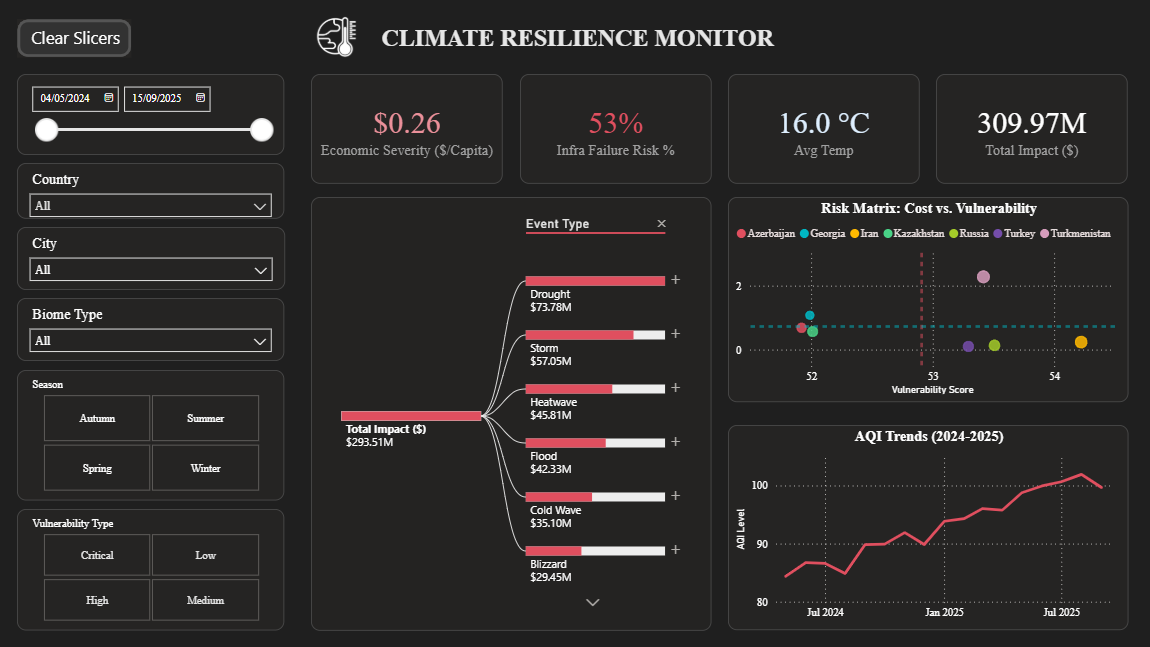

Layout of this report page (visuals, bound fields, positions):
{"tool":"powerbi","page":{"name":"Page 1","canvas":[1280,720],"ordinal":0},"visuals":[{"type":"shape","box":[20,21.3,127.3,42.7],"z":1000},{"type":"slicer","fields":{"Values":["DateTable.Date"]},"box":[20,81.7,296.7,90],"z":2000},{"type":"slicer","fields":{"Values":["AllCountriesClimate.Biome_Type"]},"box":[20,331.3,296.7,70],"z":3000},{"type":"slicer","fields":{"Values":["AllCountriesClimate.Season"]},"box":[20,410.7,296.7,145],"z":4000},{"type":"card","fields":{"Values":["_measures.Economic Severity ($/Capita)"]},"box":[346.7,81.7,213.3,121.7],"z":5000},{"type":"slicer","fields":{"Values":["AllCountriesClimate.Country"]},"box":[20,181,296.7,61.7],"z":6000},{"type":"card","fields":{"Values":["_measures.Infra Failure Risk %"]},"box":[578.6,81.7,213,121.7],"z":7000},{"type":"card","fields":{"Values":["_measures.Avg Temp"]},"box":[810.1,81.7,213,121.7],"z":8000},{"type":"card","fields":{"Values":["_measures.Total Impact ($)"]},"box":[1041.7,81.7,213,121.7],"z":9000},{"type":"textbox","box":[420,21.7,595,51.7],"z":10000},{"type":"slicer","fields":{"Values":["AllCountriesClimate.Vuln Group"]},"box":[20,565,296.7,135],"z":11000},{"type":"decompositionTreeVisual","fields":{"Analyze":["_measures.Total Impact ($)"],"ExplainBy":["AllCountriesClimate.Extreme_Weather_Events","AllCountriesClimate.Vuln Group","AllCountriesClimate.City"]},"box":[346.7,218.3,445,481.7],"z":12000},{"type":"scatterChart","title":"Risk Matrix: Cost vs. Vulnerability","fields":{"X":["Avg(AllCountriesClimate.Infrastructure_Vulnerability_Score)"],"Y":["_measures.Economic Severity ($/Capita)"],"Size":["_measures.Total Impact ($)"],"Category":["AllCountriesClimate.Country"],"Series":["AllCountriesClimate.Country"]},"box":[810,218.3,445,228.3],"z":13000},{"type":"lineChart","title":"AQI Trends (2024-2025)","fields":{"Category":["DateTable.Date.Variation.Date Hierarchy.Year","DateTable.Date.Variation.Date Hierarchy.Quarter","DateTable.Date.Variation.Date Hierarchy.Month","DateTable.Date.Variation.Date Hierarchy.Day"],"Y":["_measures.Avg AQI"]},"box":[810,471.7,445,228.3],"z":14000},{"type":"image","box":[328.3,0,91.7,81.7],"z":15000},{"type":"actionButton","box":[23.3,17.3,120.7,46.7],"z":16000},{"type":"slicer","fields":{"Values":["AllCountriesClimate.City"]},"box":[20,252,297.5,70],"z":17000}]}

Visuals, with their boxes in screenshot pixels (x1, y1, x2, y2), scaled from the page's 1280x720 canvas onto the 1150x647 screenshot:
shape: 18, 19, 132, 58
slicer - DateTable.Date: 18, 73, 285, 154
slicer - AllCountriesClimate.Biome_Type: 18, 298, 285, 361
slicer - AllCountriesClimate.Season: 18, 369, 285, 499
card - _measures.Economic Severity ($/Capita): 311, 73, 503, 183
slicer - AllCountriesClimate.Country: 18, 163, 285, 218
card - _measures.Infra Failure Risk %: 520, 73, 711, 183
card - _measures.Avg Temp: 728, 73, 919, 183
card - _measures.Total Impact ($): 936, 73, 1127, 183
textbox: 377, 19, 912, 66
slicer - AllCountriesClimate.Vuln Group: 18, 508, 285, 629
decompositionTreeVisual - _measures.Total Impact ($) x AllCountriesClimate.Extreme_Weather_Events: 311, 196, 711, 629
"Risk Matrix: Cost vs. Vulnerability" scatterChart: 728, 196, 1128, 401
"AQI Trends (2024-2025)" lineChart: 728, 424, 1128, 629
image: 295, 0, 377, 73
actionButton: 21, 16, 129, 58
slicer - AllCountriesClimate.City: 18, 226, 285, 289
